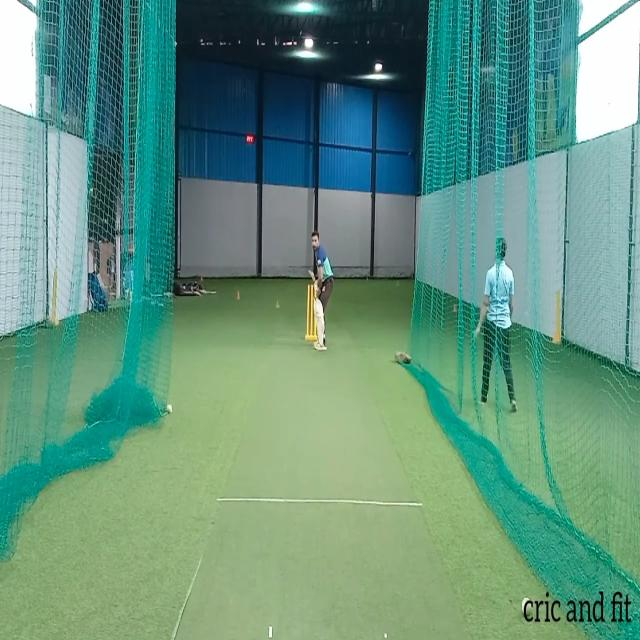batsman: (307, 230, 335, 352)
